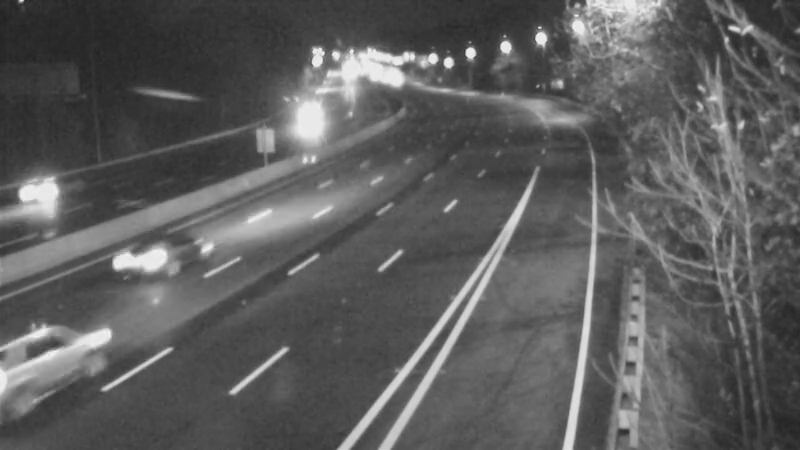vehicle: (7, 306, 117, 416), (104, 214, 184, 294), (4, 155, 84, 235), (369, 55, 419, 105), (280, 96, 330, 146)
